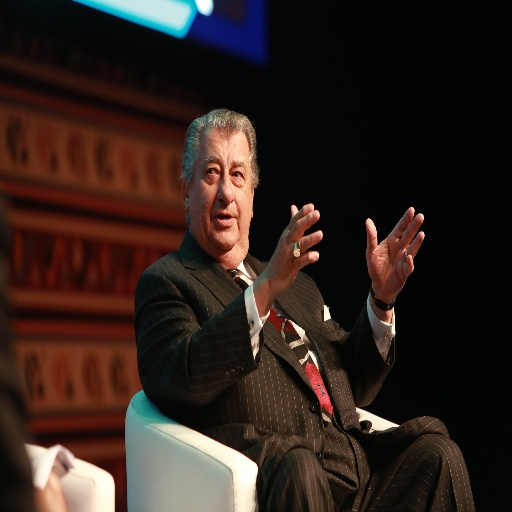hand: (259, 207, 331, 306), (364, 206, 425, 300)
